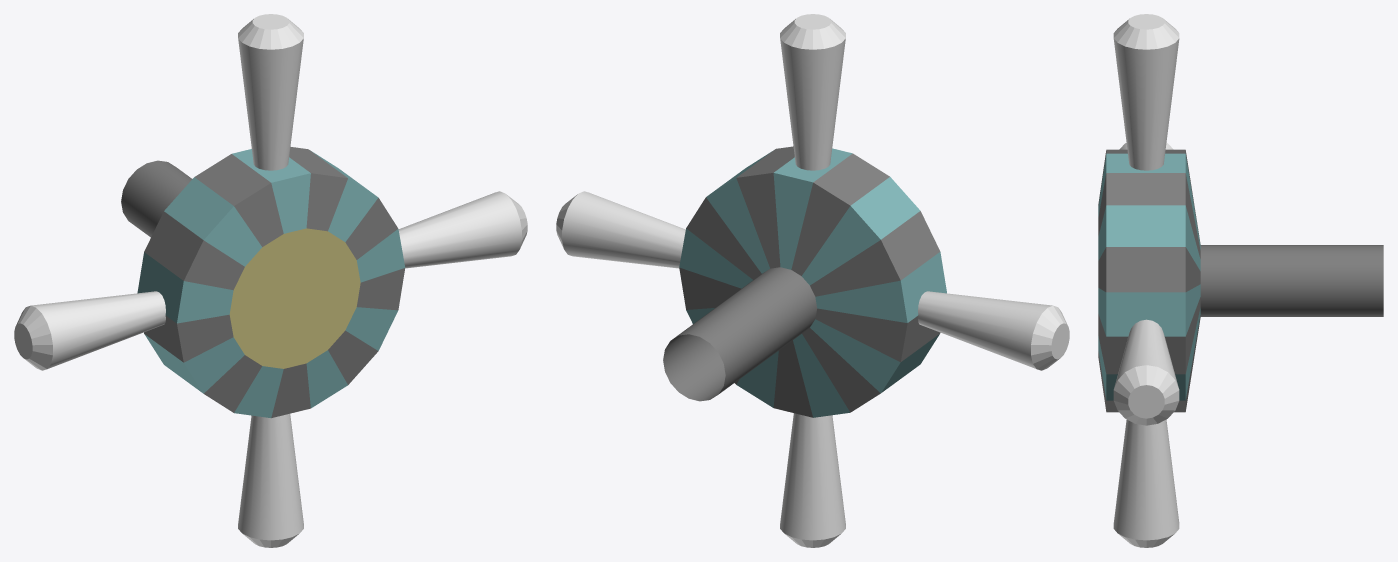
File: Water Tap.fbx
3 renders of one model, left to right at view 1: azimuth 30°, elevation 25°; view 2: azimuth 150°, elevation 25°; view 3: azimuth 270°, elevation 25°, orthographic.
Parts seen in each view (by area): view 1: Cylinder001, Cylinder004; view 2: Cylinder001, Cylinder004; view 3: Cylinder001, Cylinder004.
Boxes of the visible parts, box(x1,y1,x2,y2) form: Cylinder001: box(121, 146, 405, 418); Cylinder004: box(14, 14, 527, 547); Cylinder001: box(663, 146, 946, 417); Cylinder004: box(556, 14, 1069, 547); Cylinder001: box(1098, 149, 1383, 412); Cylinder004: box(1113, 14, 1179, 547).
Size of the model in its own units: 76.36 by 76.36 by 38.13.
